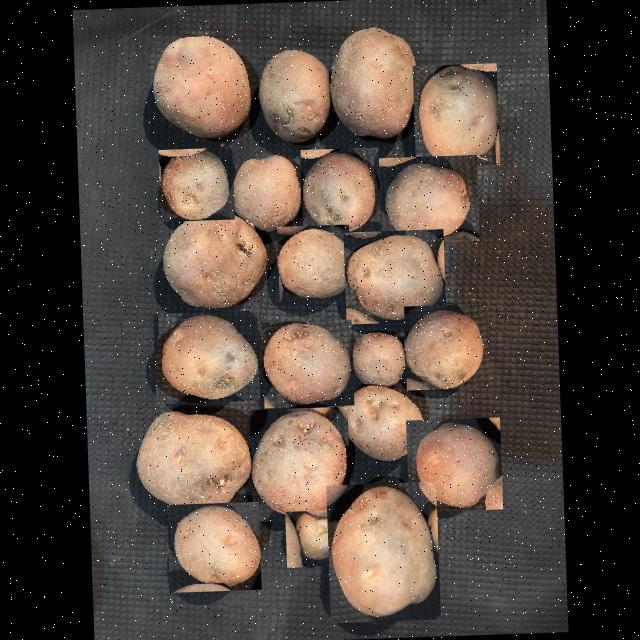Diseased-fungal potato: (326, 480, 440, 622), (146, 18, 255, 146), (132, 407, 254, 514), (326, 18, 422, 148), (249, 406, 351, 520), (160, 210, 270, 312), (153, 309, 260, 403), (343, 228, 446, 323), (412, 62, 500, 166), (406, 416, 502, 511), (378, 154, 479, 242), (254, 42, 336, 149), (166, 501, 262, 592), (261, 318, 354, 407), (404, 302, 491, 389), (334, 382, 424, 466), (300, 146, 381, 237), (222, 148, 308, 232), (276, 223, 352, 301), (158, 146, 234, 220), (350, 327, 410, 391), (284, 508, 348, 566)
